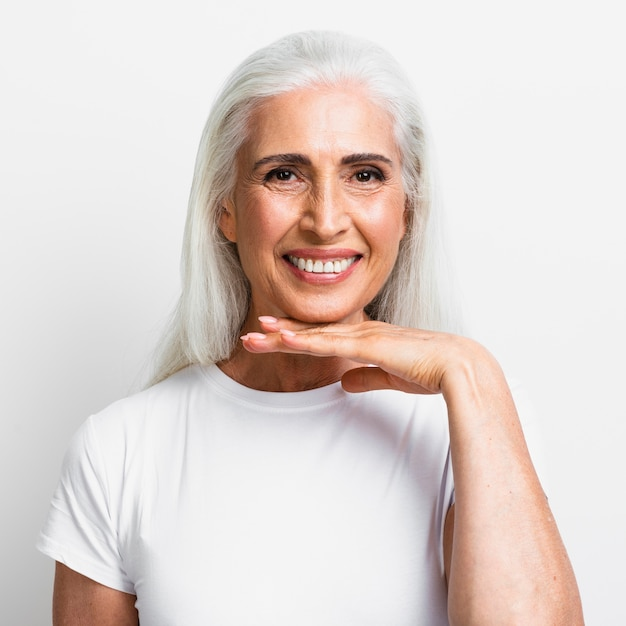young: (202, 49, 436, 354)
